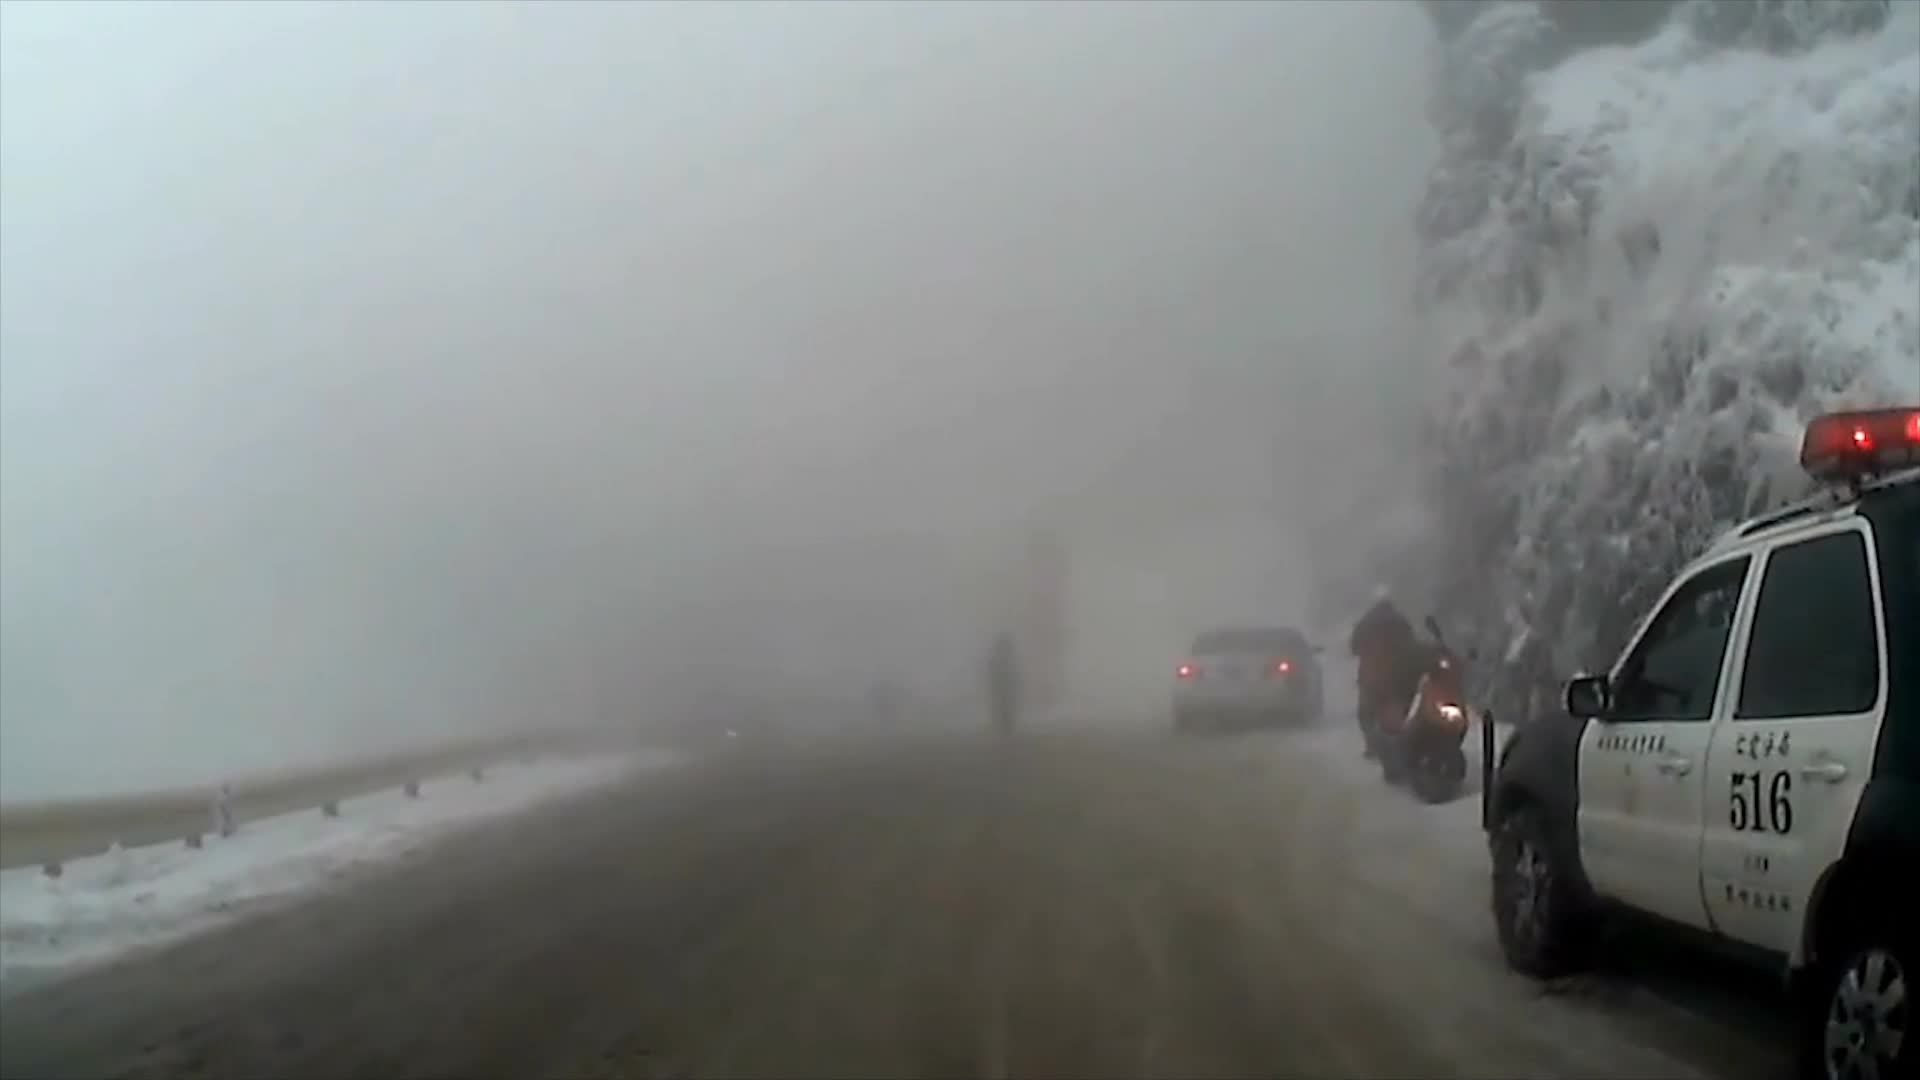pedestrian: (1342, 586, 1421, 760), (987, 629, 1023, 748)
vehicle: (1477, 404, 1914, 1080), (1172, 624, 1328, 741)
